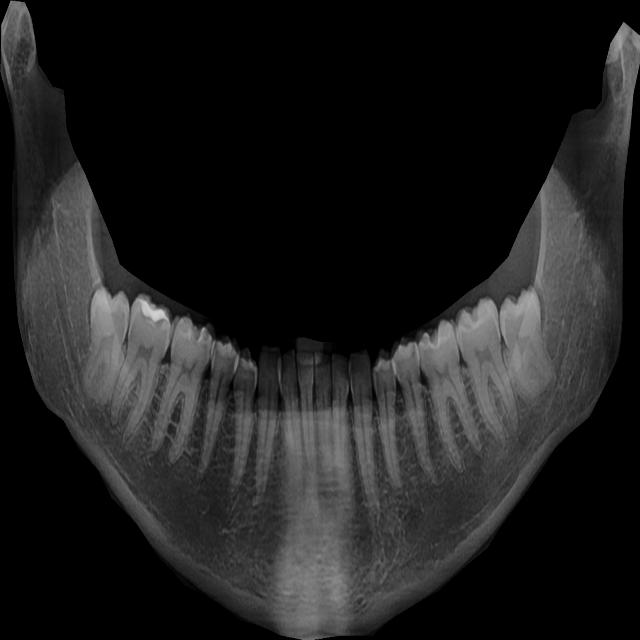mandibula: (0, 0, 640, 640)
